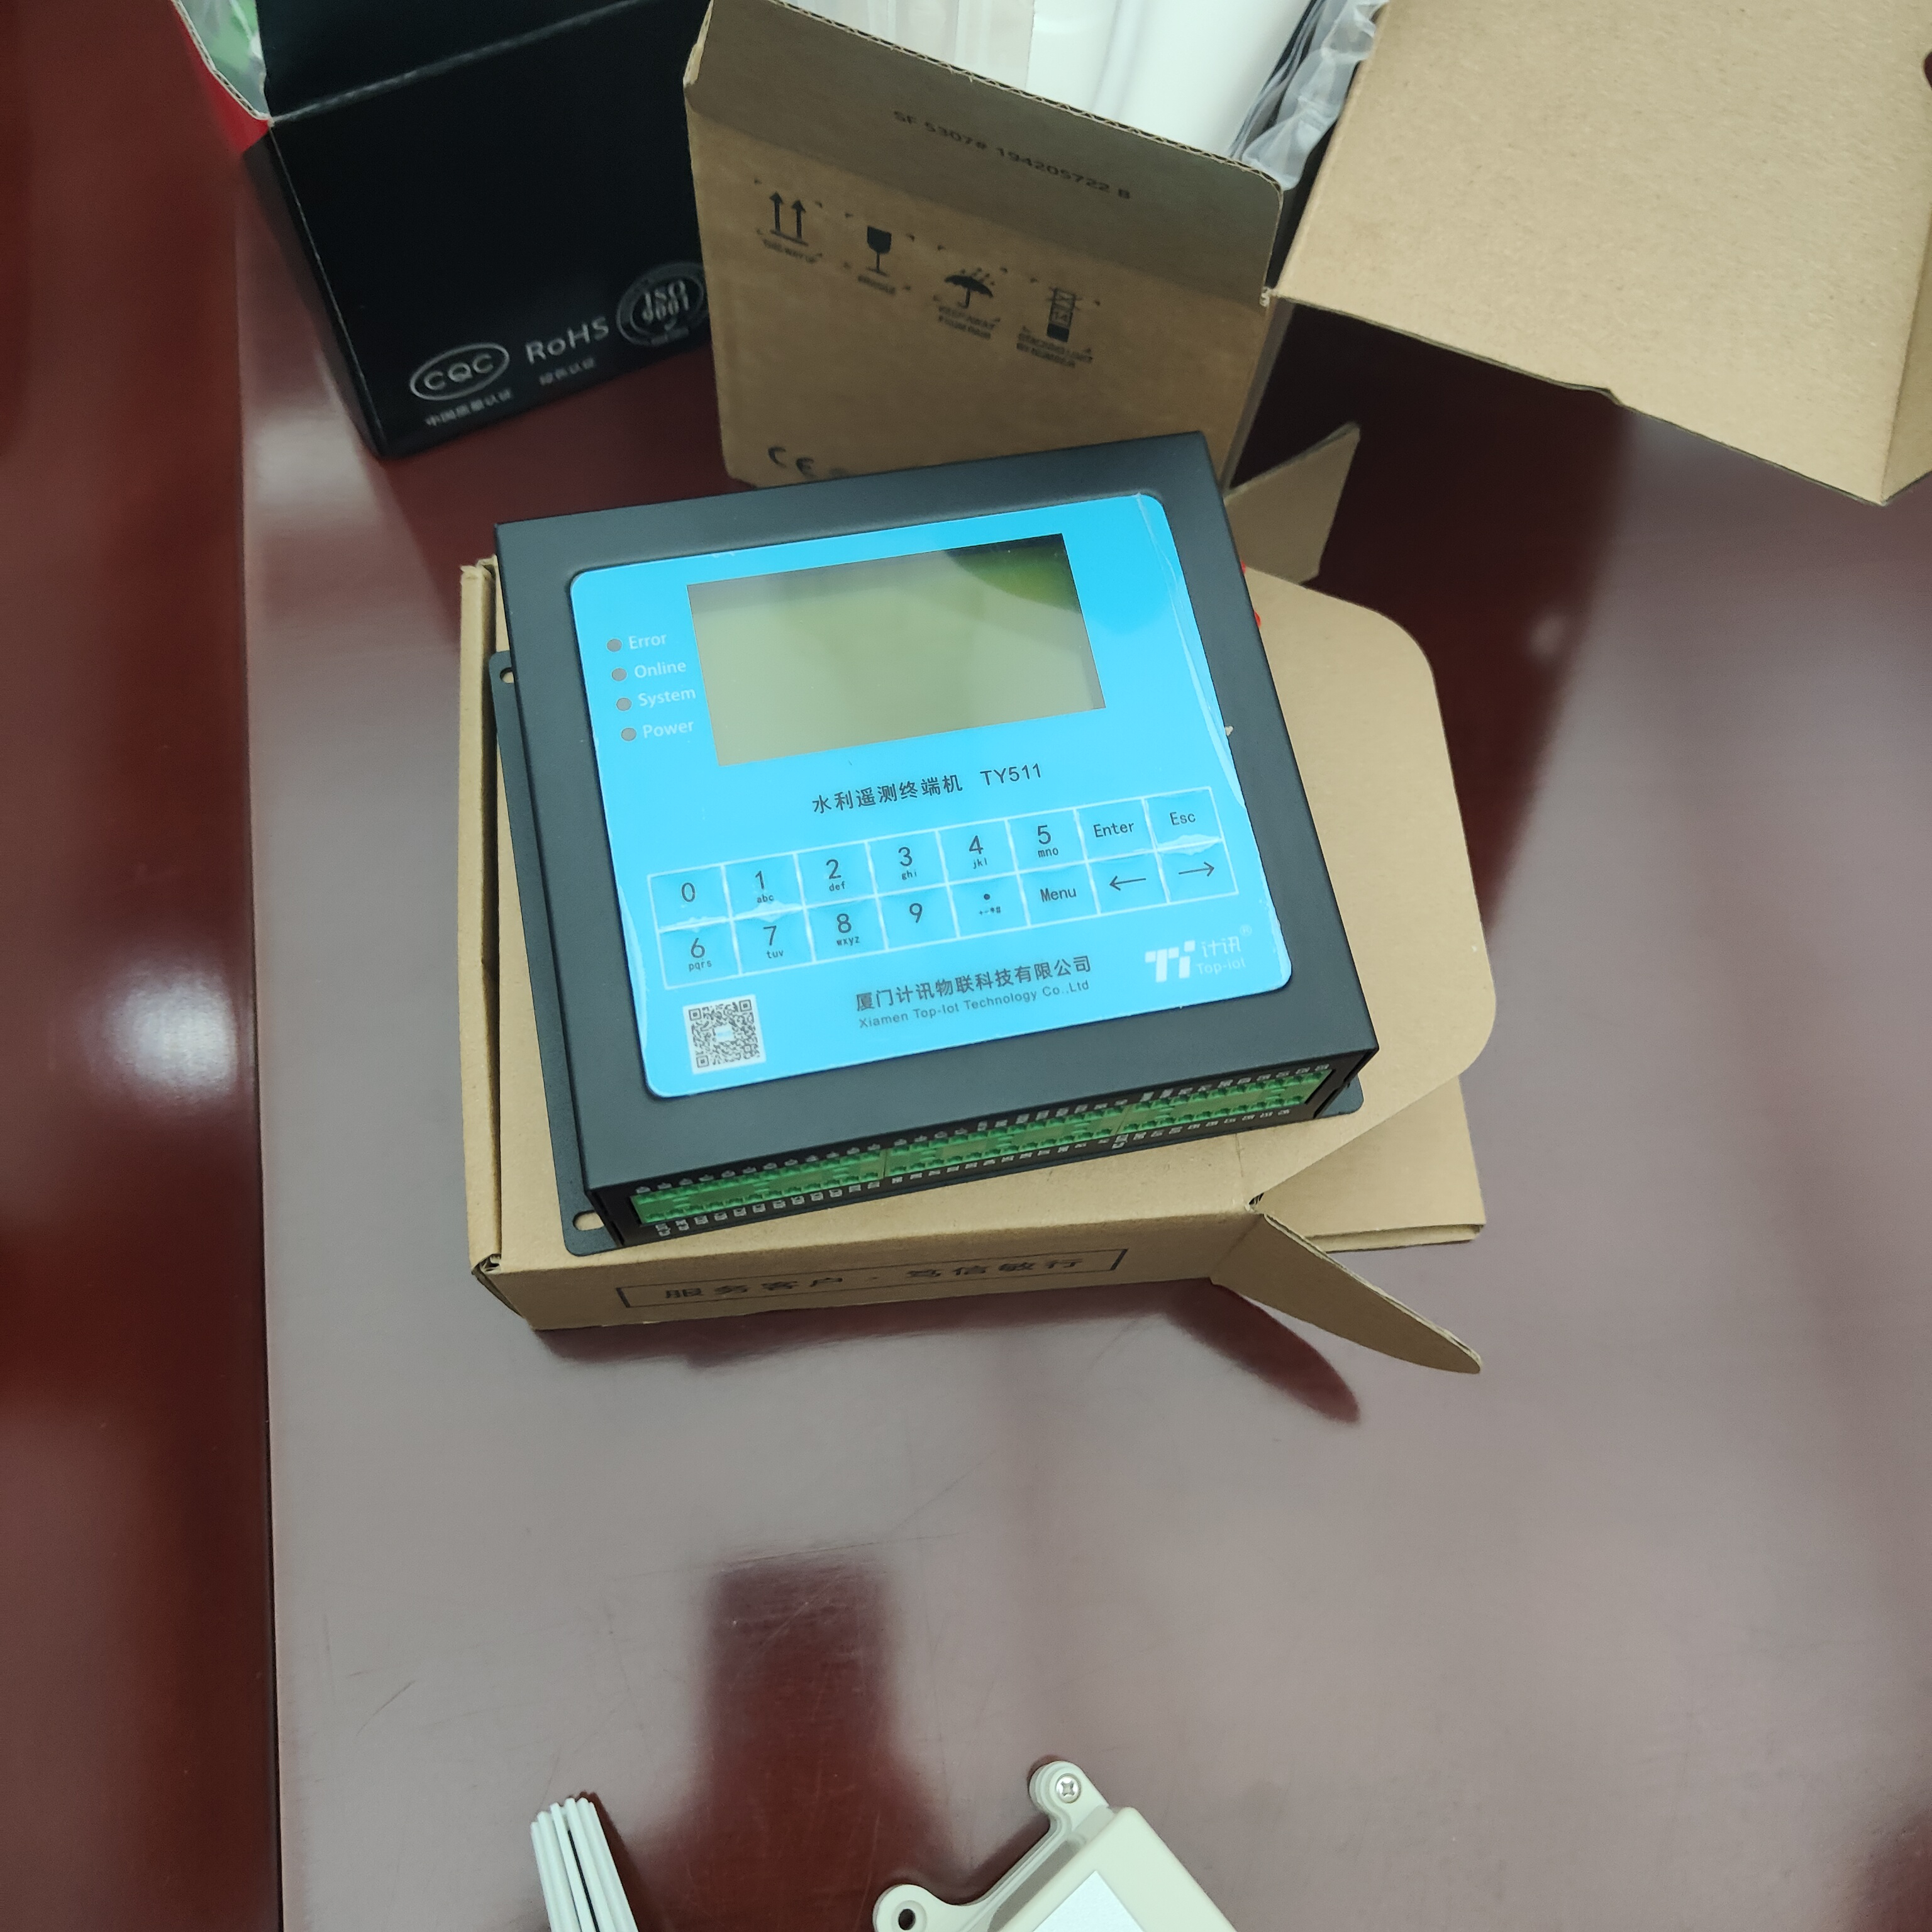slyczd: (490, 416, 1384, 1247)
